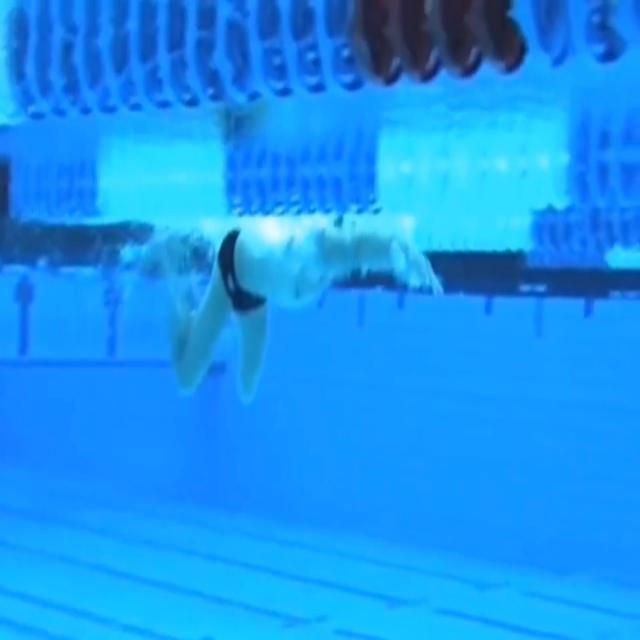Swimming: (168, 221, 446, 400)
